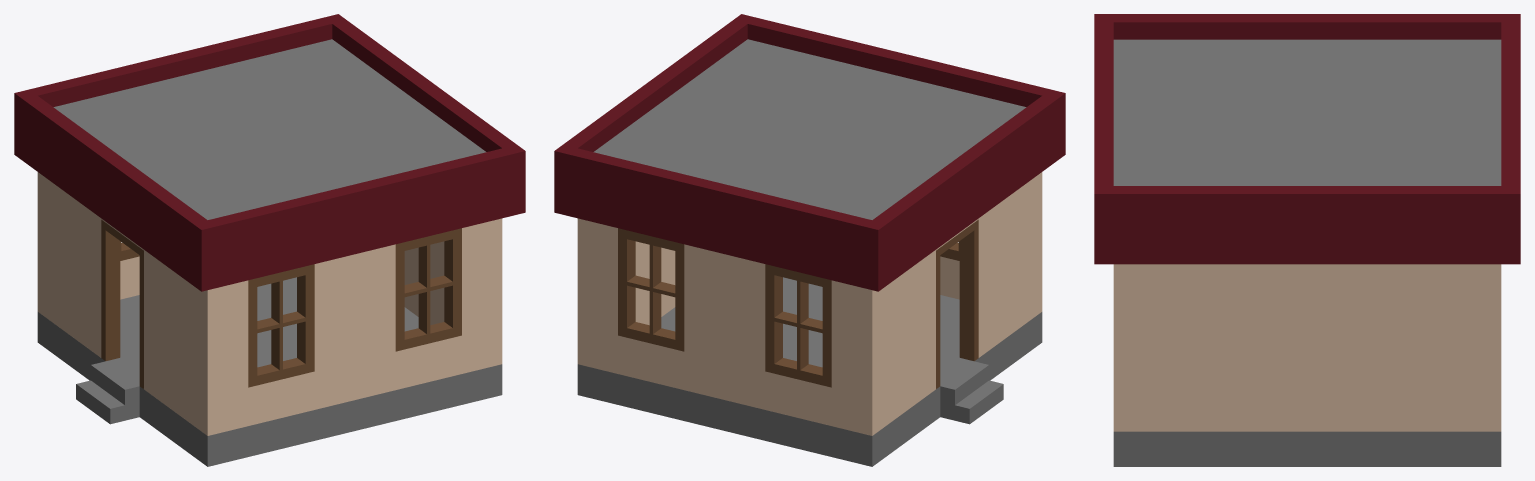
File: 1floor_build.fbx
3 views of the same model, side by side, from view 1: azimuth 30°, elevation 25°; view 2: azimuth 150°, elevation 25°; view 3: azimuth 270°, elevation 25° (orthographic). The views are drawn at different scales.
Visible parts, largest first — view 1: Floor; view 2: Floor; view 3: Floor.
Boxes of the visible parts, x1,y1,x2,y2 form: Floor: [14, 14, 525, 466]; Floor: [554, 14, 1065, 466]; Floor: [1094, 14, 1520, 466].
Size of the model in its own units: 460 by 320 by 440.
